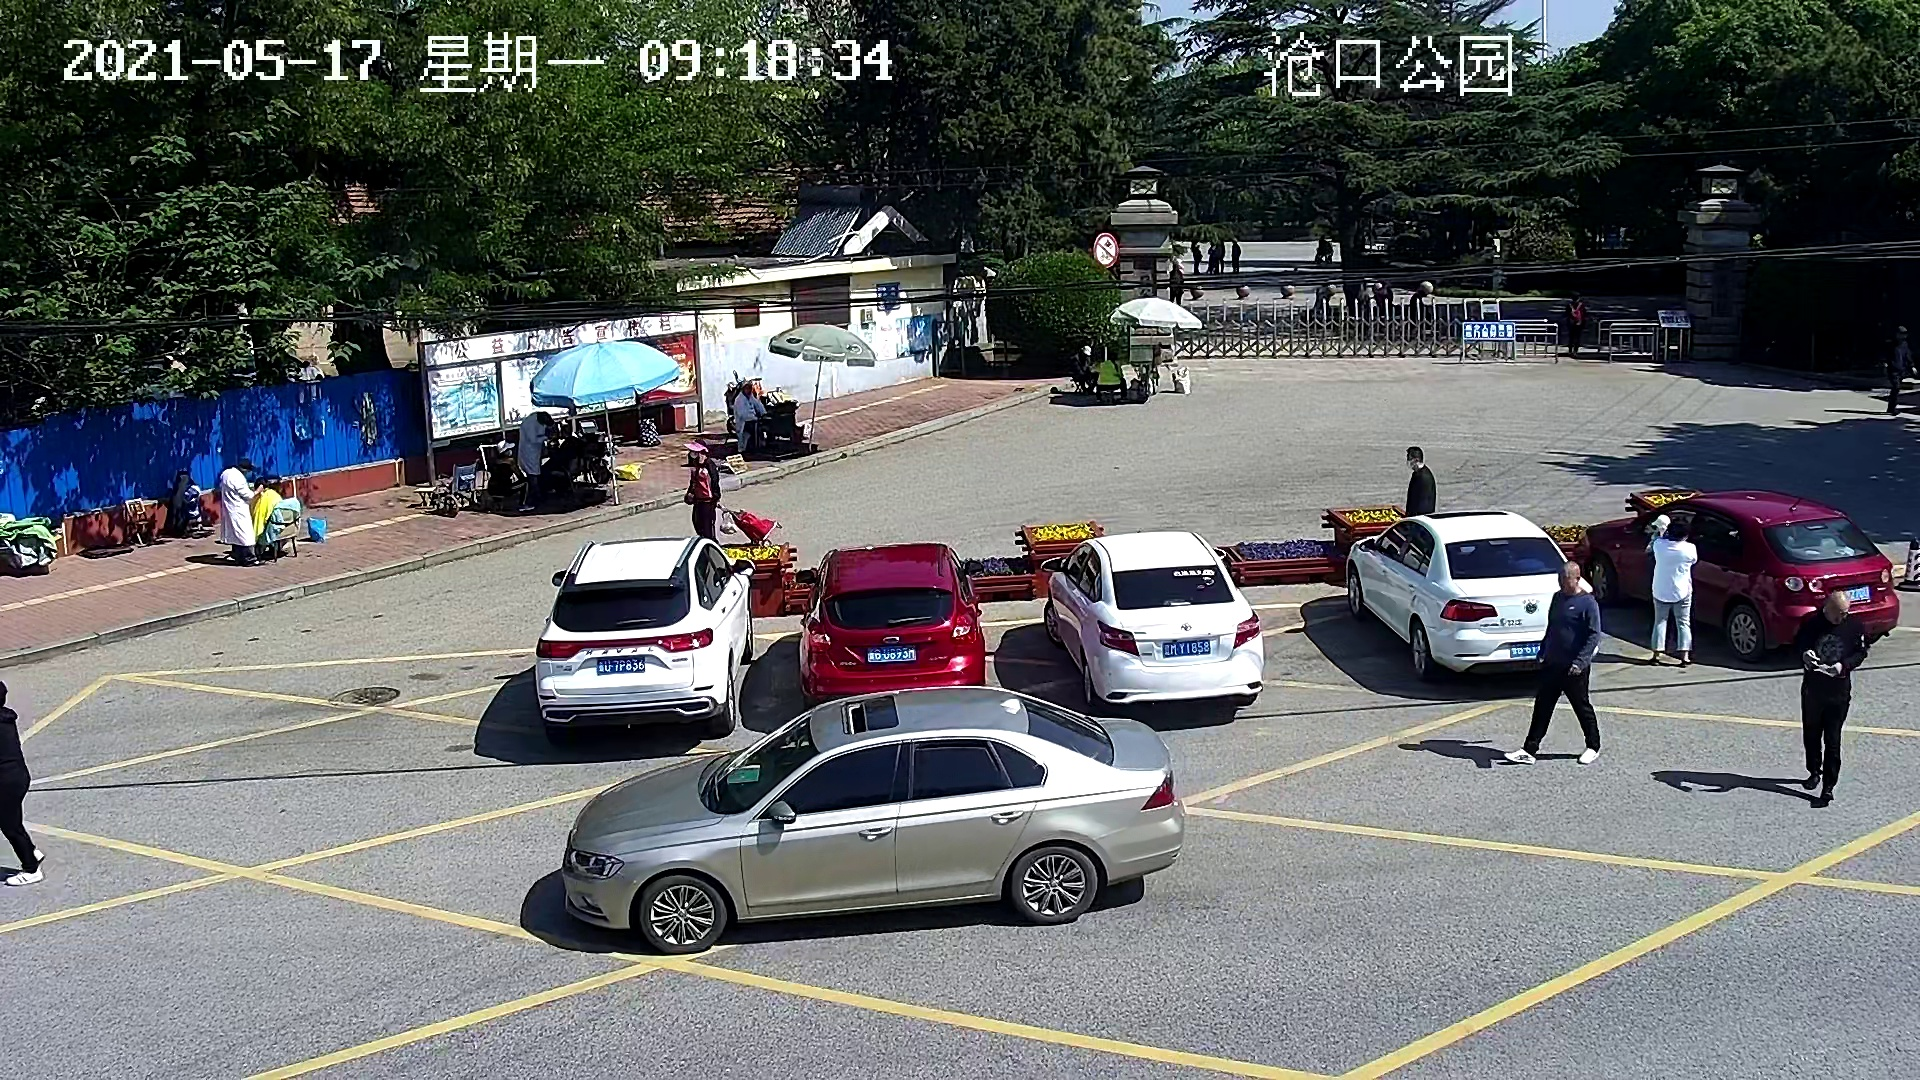chair: (255, 496, 301, 564), (124, 497, 157, 547), (411, 487, 438, 512)
umbrella: (527, 340, 679, 407), (767, 320, 880, 369), (1105, 295, 1203, 331)
